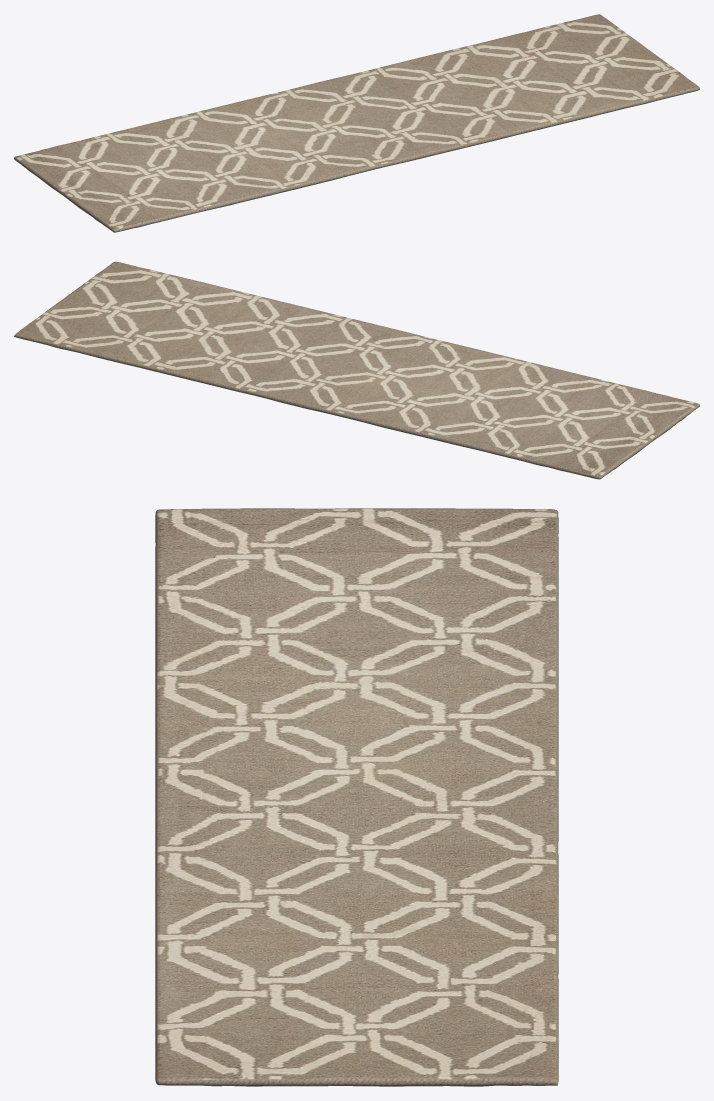
The model's file is abo-B071J4VYXJ.glb.
The picture shows the model from 3 angles, top to bottom: view 1: azimuth 30°, elevation 25°; view 2: azimuth 150°, elevation 25°; view 3: azimuth 270°, elevation 25°; orthographic projection. The views are drawn at different scales.
Size of the model in its own units: 2.28 by 0.014 by 0.678.
Materials: 1 (1 with a texture image).
